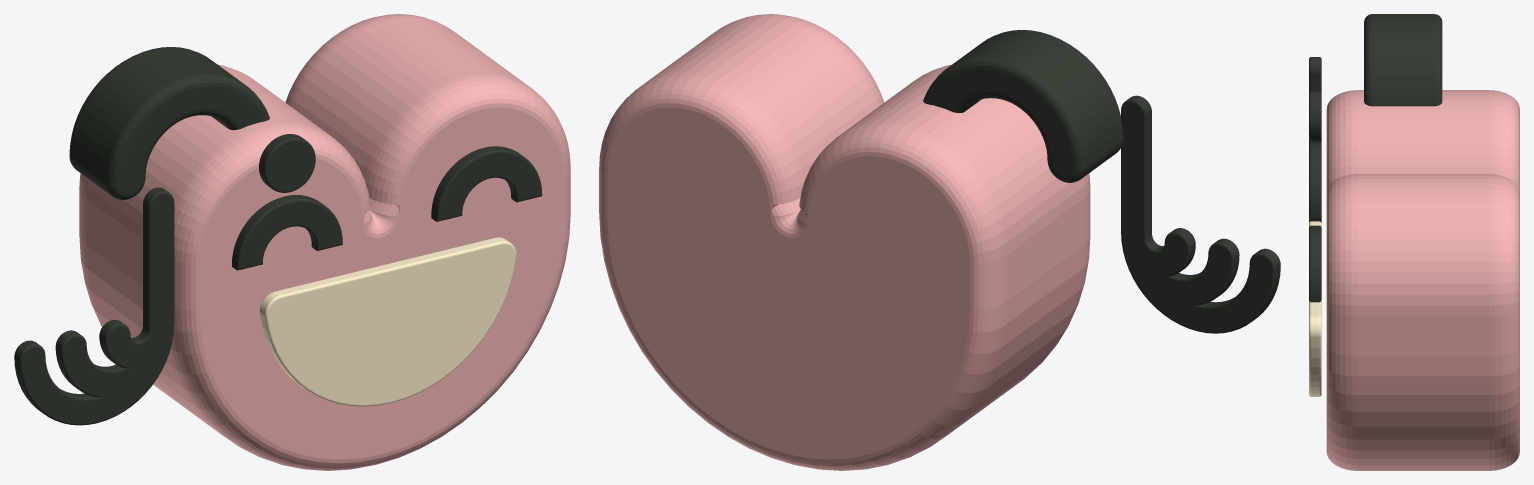
File: amora.glb
3 views of the same model, side by side, from view 1: azimuth 30°, elevation 25°; view 2: azimuth 150°, elevation 25°; view 3: azimuth 270°, elevation 25° (orthographic). The views are drawn at different scales.
Visible parts, largest first — view 1: Volume, Detalhe (×9); view 2: Volume, Detalhe (×5); view 3: Volume, Detalhe (×6).
Part boxes in pixels (x1,y1,x2,y2): Volume: [79, 14, 570, 470]; Detalhe (×9): [14, 47, 542, 425]; Volume: [599, 14, 1090, 470]; Detalhe (×5): [923, 30, 1280, 333]; Volume: [1326, 90, 1519, 470]; Detalhe (×6): [1309, 14, 1442, 396].
Size of the model in its own units: 3.12 by 2.19 by 1.16.
